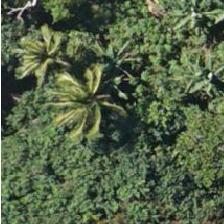coconut_tree: (42, 54, 132, 144), (0, 2, 86, 92)
